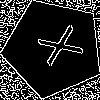X: (28, 23, 84, 72)
